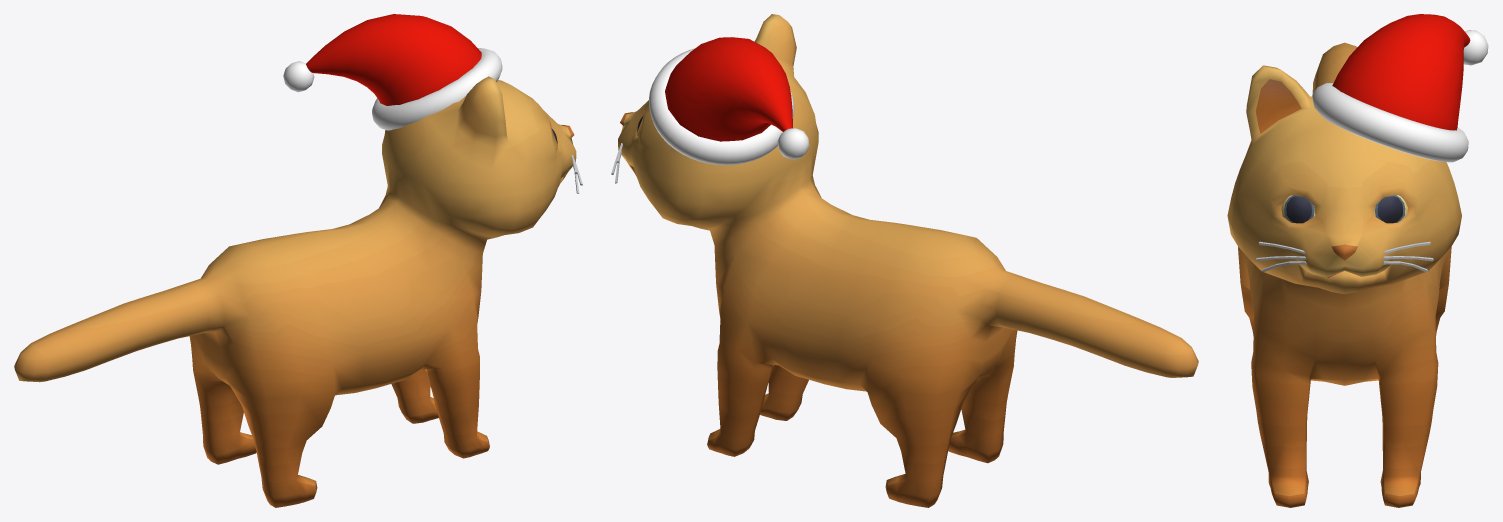
The model's file is santaCat.glb.
3 views of the same model, side by side, from view 1: azimuth 30°, elevation 25°; view 2: azimuth 150°, elevation 25°; view 3: azimuth 270°, elevation 25° (orthographic). The views are drawn at different scales.
Parts seen in each view (by area): view 1: Object_43, Main, hatWhite; view 2: Object_43, Main, hatWhite; view 3: Object_43, Main, hatWhite.
Boxes of the visible parts, x1,y1,x2,y2 form: Object_43: [14, 76, 582, 507]; Main: [306, 14, 481, 105]; hatWhite: [283, 48, 502, 130]; Object_43: [611, 14, 1198, 507]; Main: [665, 37, 792, 141]; hatWhite: [649, 48, 809, 165]; Object_43: [1227, 42, 1461, 507]; Main: [1332, 14, 1470, 130]; hatWhite: [1312, 30, 1488, 162].
Size of the model in its own units: 1.14 by 0.7784 by 0.3952.
Materials: 3 (2 with a texture image).
